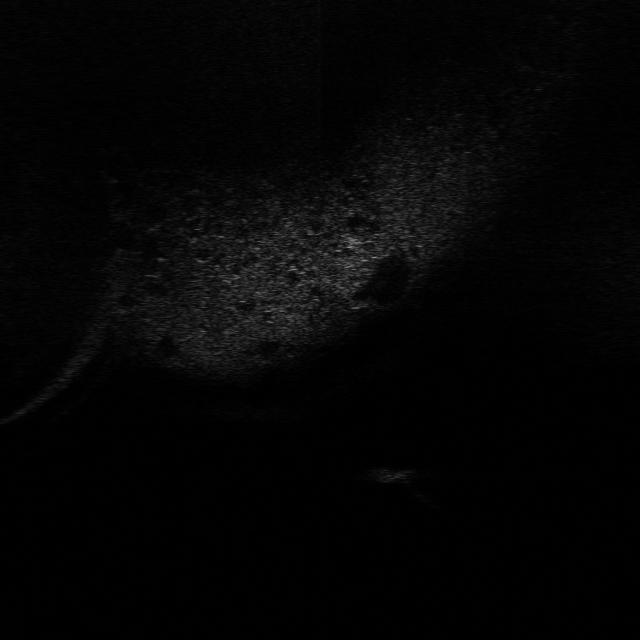cube: (360, 462, 420, 484)
